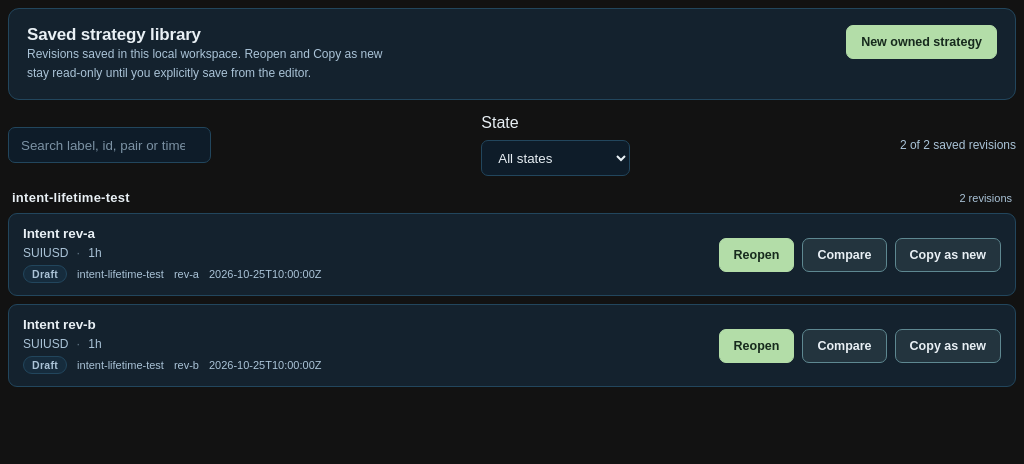
Test: SavedStrategyLibrary — current-generation actions keep exact contracts › still surfaces a current Copy failure with its real error text
What coordinates should you click on to do the following:
click the button with test id "library-copy-as-new" in the row of "Intent rev-a"
I would click on:
 (948, 255)
Its box is x1=895 y1=238 x2=1001 y2=272.
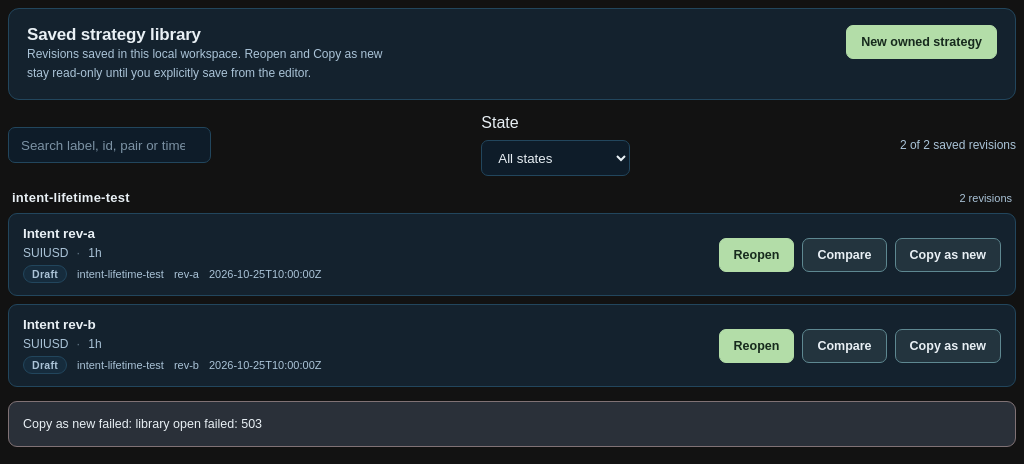
expect the message with test id "library-copy-error" reads "Copy as new failed: library open failed: 503": met, box x1=8 y1=401 x2=1016 y2=447
